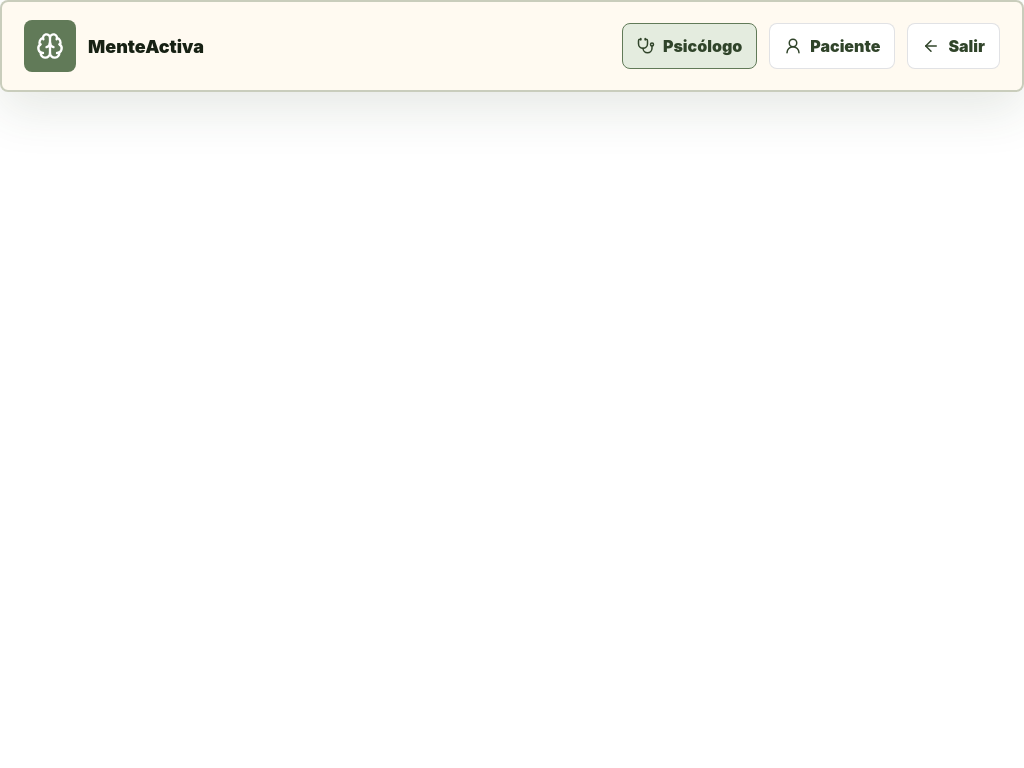
Test: GlobalHeader — cambio de rol con confirmación › profesional ve botón Paciente y presionarlo abre confirmación (no cambia pantalla)
Click the button with aria-label "Cambiar a cuenta de Paciente" at [832, 46], box [769,23,895,69]
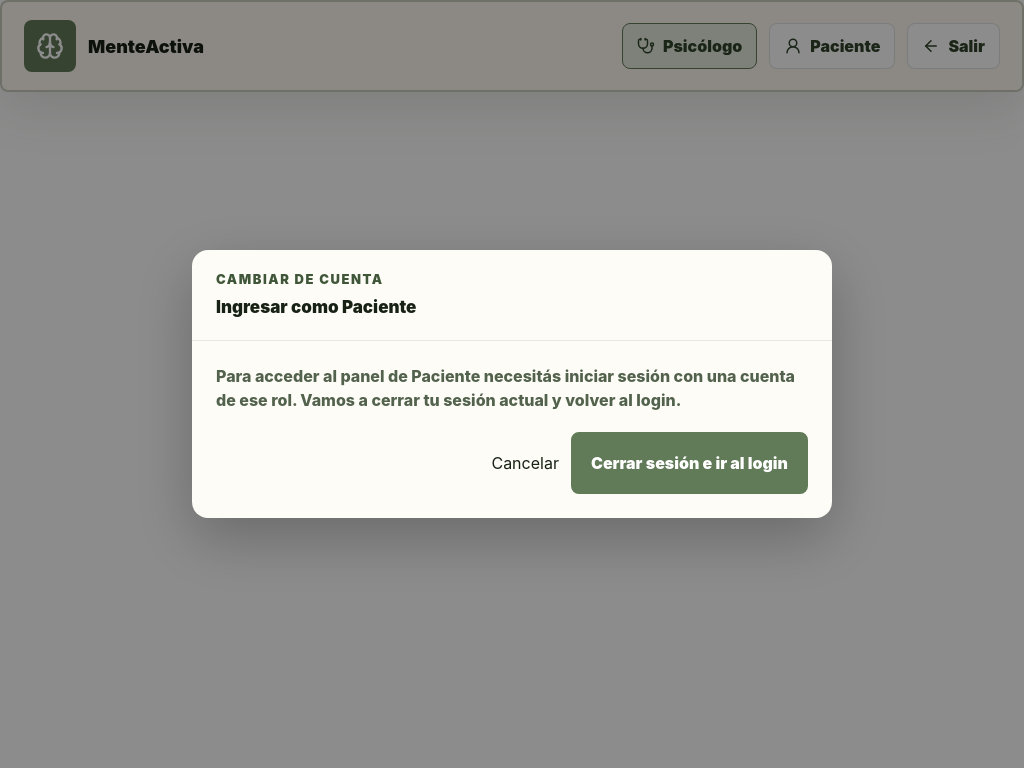
Check: the dialog is shown, box [192,250,832,518]
Check: the heading "Ingresar como Paciente" is shown, box [216,295,416,320]
